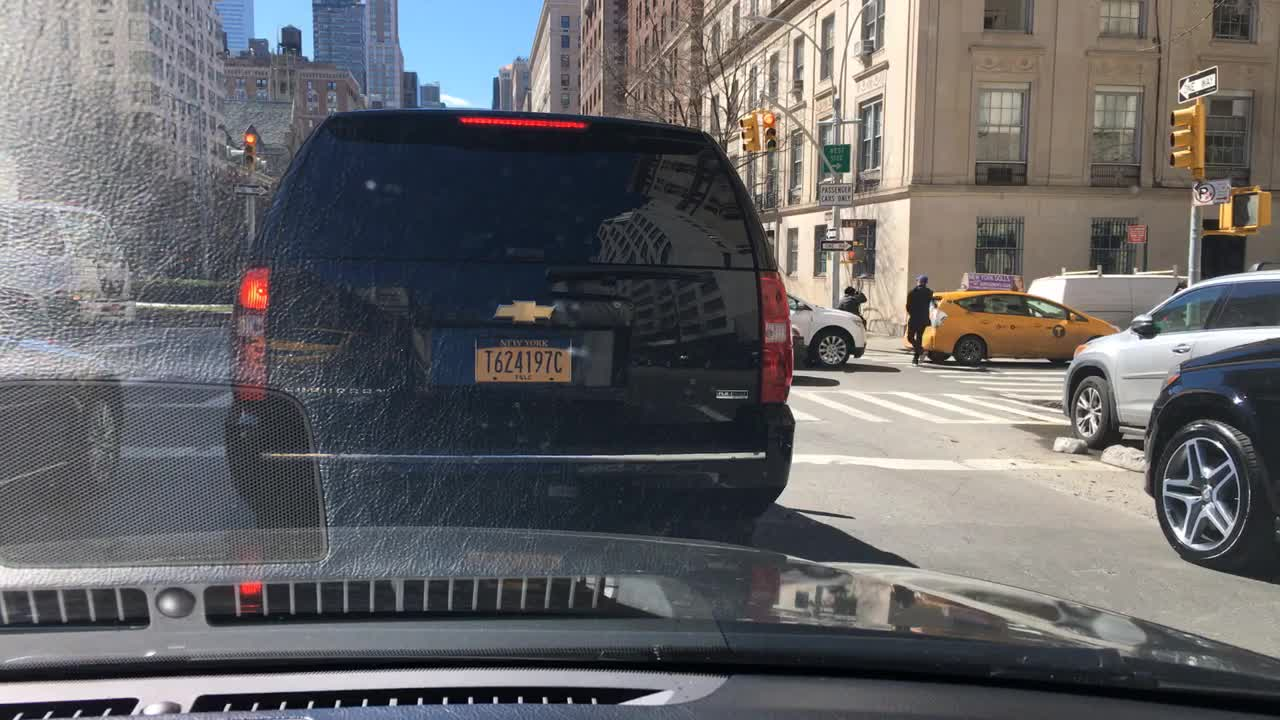car: (221, 108, 796, 547), (1061, 259, 1279, 449), (1141, 335, 1277, 572), (0, 307, 127, 522), (901, 271, 1119, 367), (0, 197, 135, 341), (1026, 262, 1188, 331), (780, 289, 866, 372)
person: (905, 275, 947, 367), (835, 284, 867, 323)
traffic light: (1217, 187, 1271, 230), (1169, 107, 1205, 170), (739, 113, 761, 151), (764, 110, 777, 151), (243, 131, 256, 164)
traffic sign: (1177, 64, 1217, 105), (1190, 175, 1231, 205), (819, 143, 849, 174), (818, 183, 854, 205), (233, 182, 270, 196), (820, 239, 853, 251), (1126, 224, 1146, 242), (822, 228, 840, 236)
